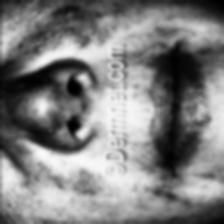Non-Cancerous Skin Condition: (38, 7, 92, 53), (47, 166, 93, 200), (220, 178, 224, 188)
